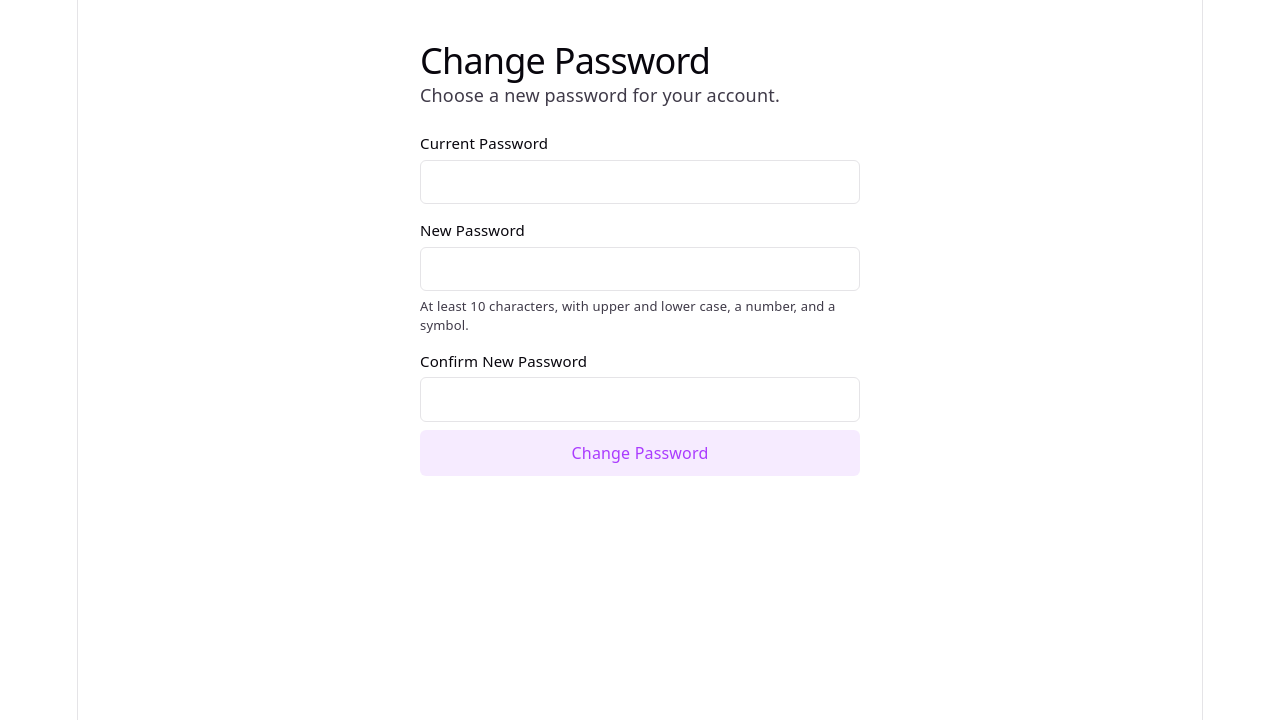
ChangePasswordPage › rejects mismatched passwords
Type "OldPassword1!" into the password field labelled "Current Password" at point(640, 182), box [420,160,860,204]
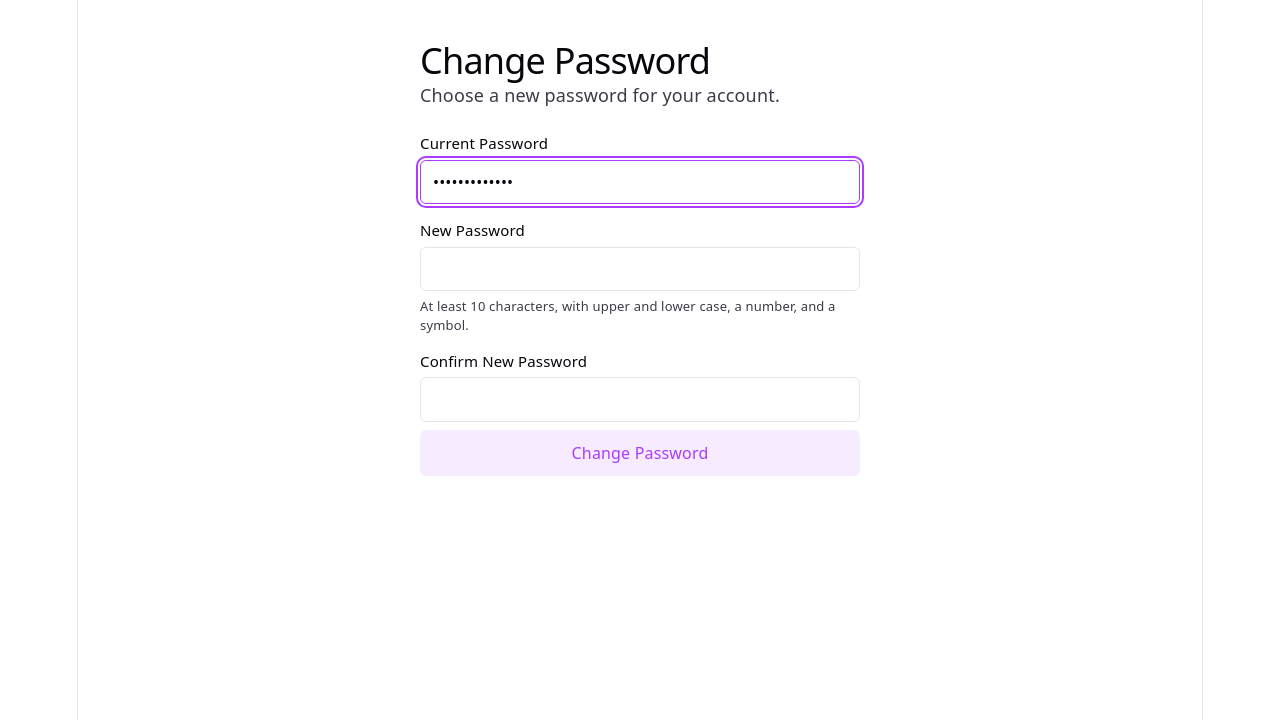
Type "Password1!" into the password field labelled "New Password" at point(640, 269), box [420,247,860,291]
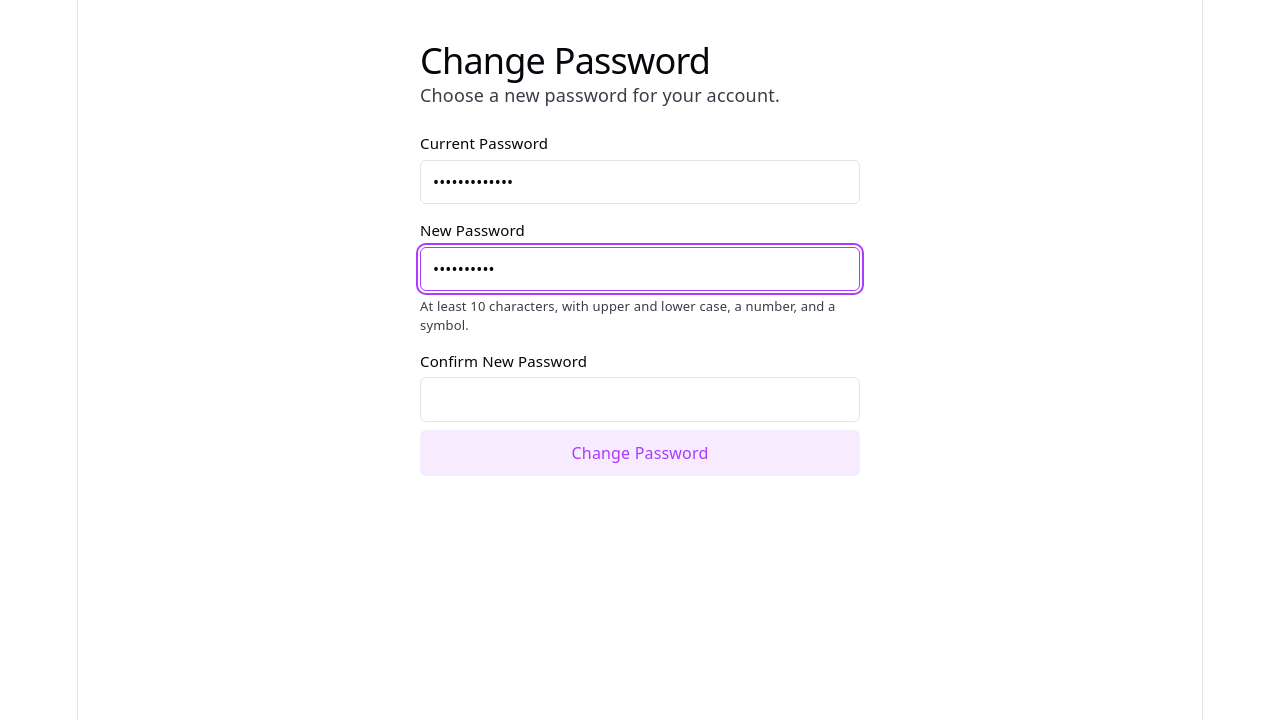
Type "Password2!" into the password field labelled "Confirm New Password" at point(640, 400), box [420,377,860,422]
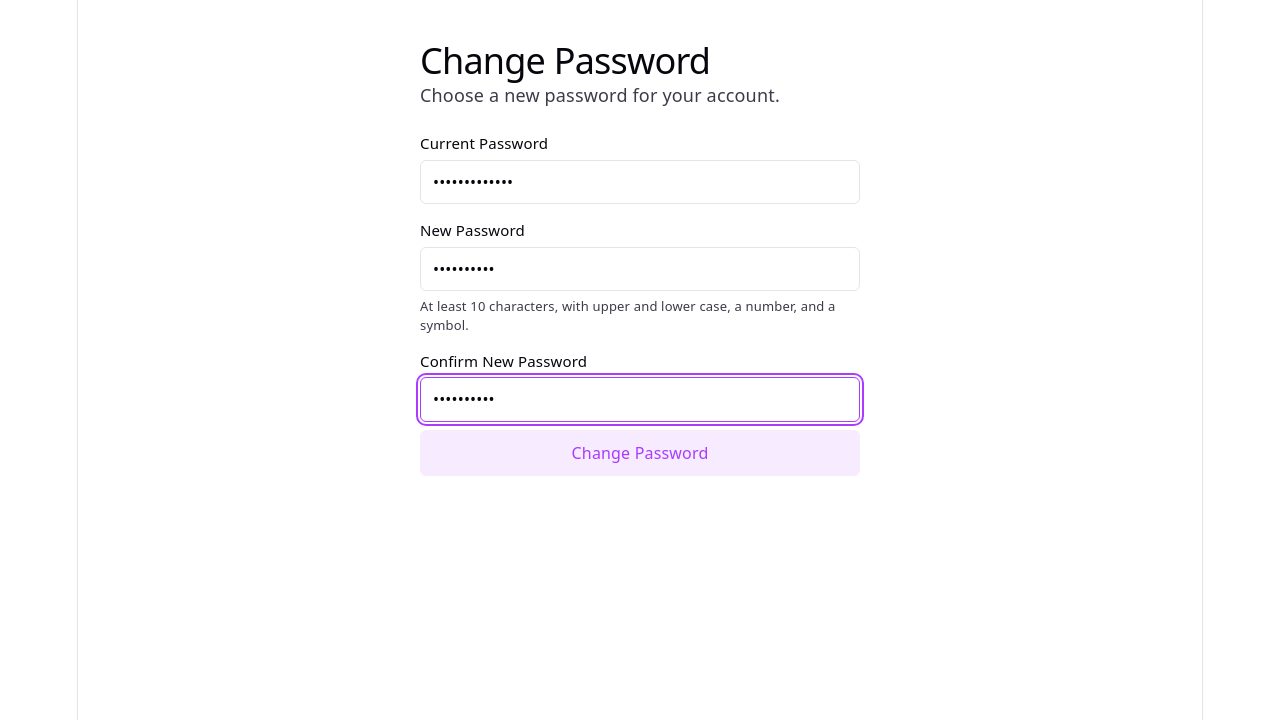
Click the button "Change Password" at point(640, 453), box [420,430,860,476]
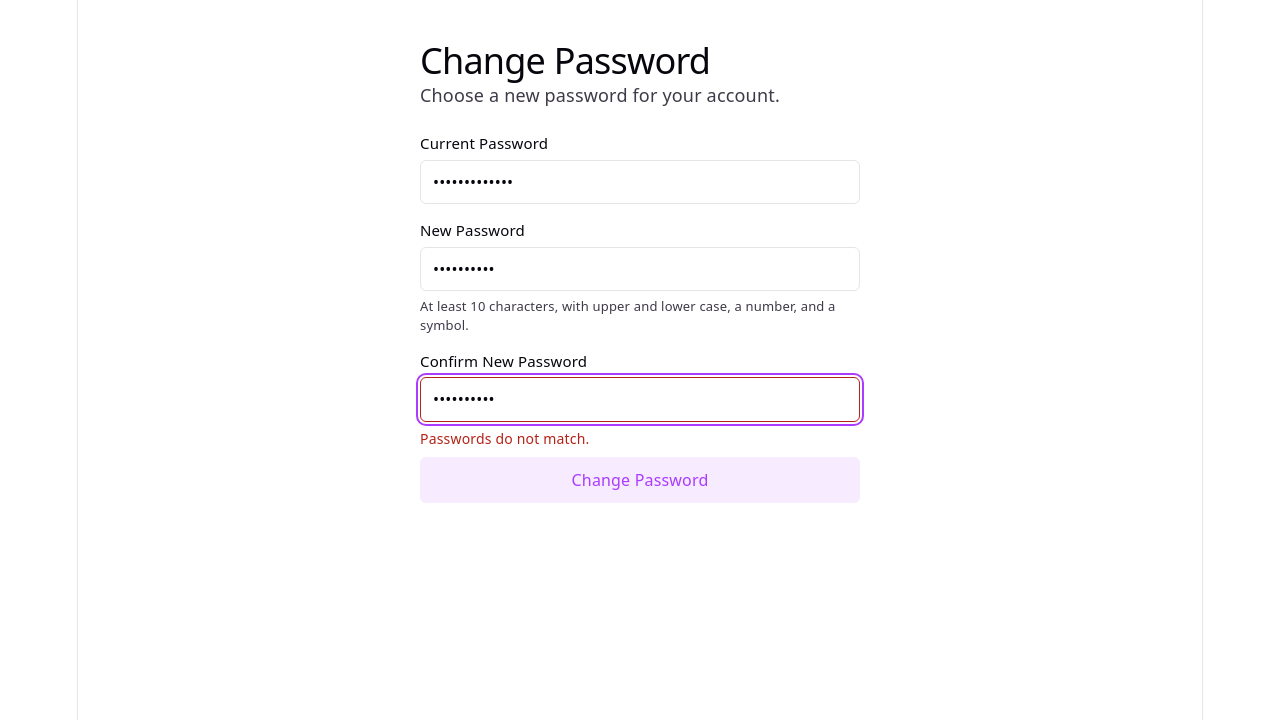
Expected: the text "Passwords do not match." is shown, [420,429,590,448]
